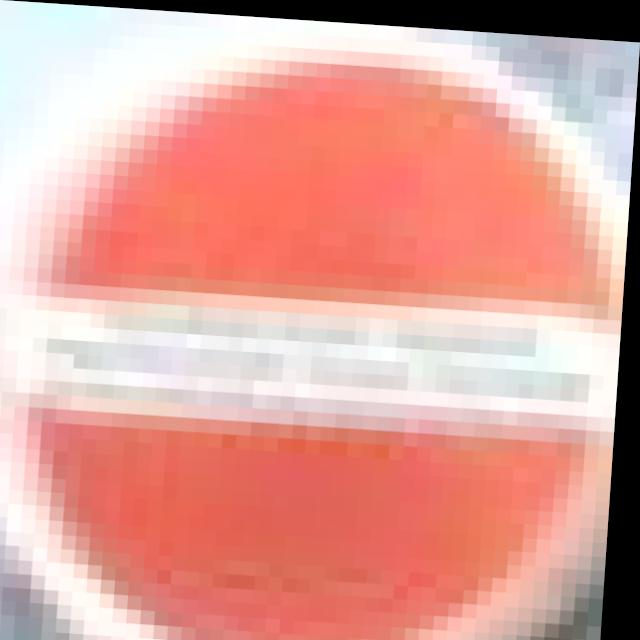NO_ENTRY: (0, 1, 640, 640)
